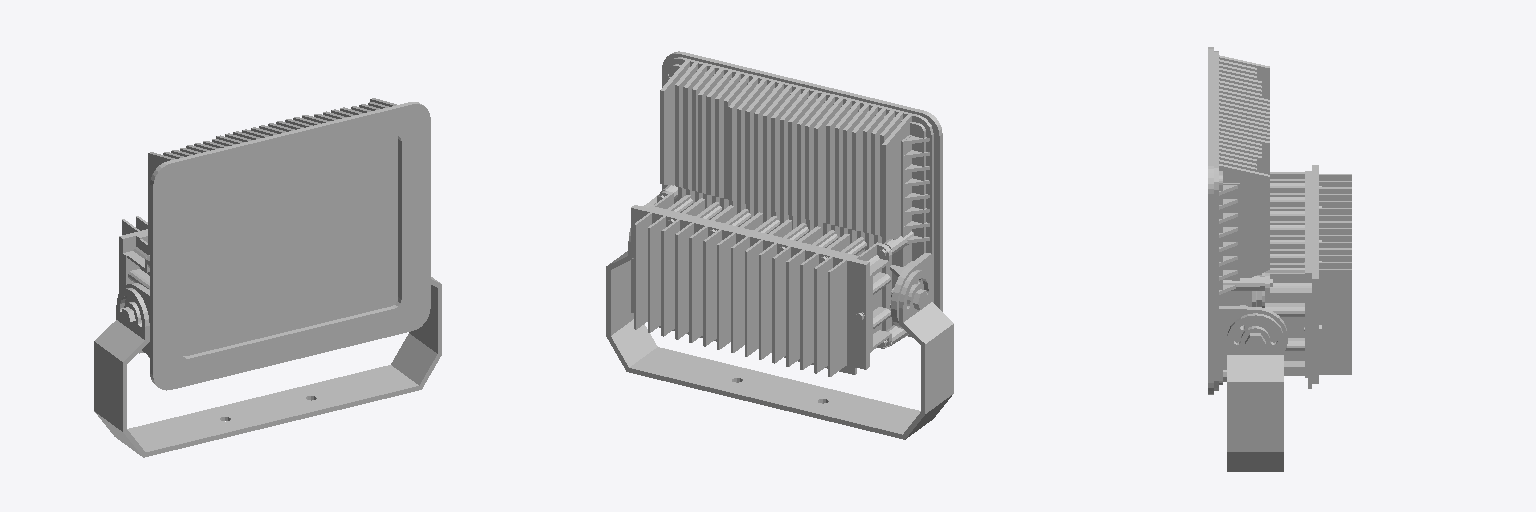
Rendered from PFM15LCY_UNV1D76.obj.
The picture shows the model from 3 angles: view 1: azimuth 30°, elevation 25°; view 2: azimuth 150°, elevation 25°; view 3: azimuth 270°, elevation 25°; orthographic projection.
Size of the model in its own units: 17.65 by 15.68 by 6.88.